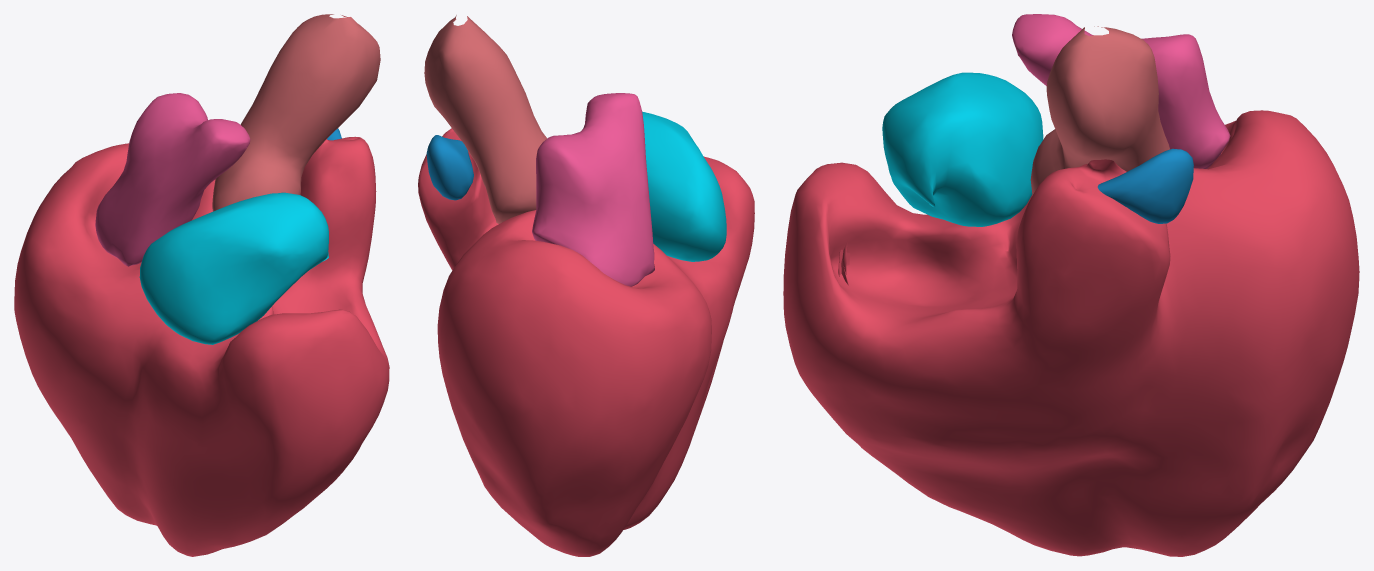
Rendered from frame_64.glb.
3 views of the same model, side by side, from view 1: azimuth 30°, elevation 25°; view 2: azimuth 150°, elevation 25°; view 3: azimuth 270°, elevation 25° (orthographic). The views are drawn at different scales.
Visible parts, largest first — view 1: Renderer Node; view 2: Renderer Node; view 3: Renderer Node.
Part boxes in pixels (x1,y1,x2,y2): Renderer Node: (14, 14, 389, 556); Renderer Node: (418, 15, 754, 556); Renderer Node: (783, 14, 1359, 556).
Size of the model in its own units: 105 by 162 by 136.
